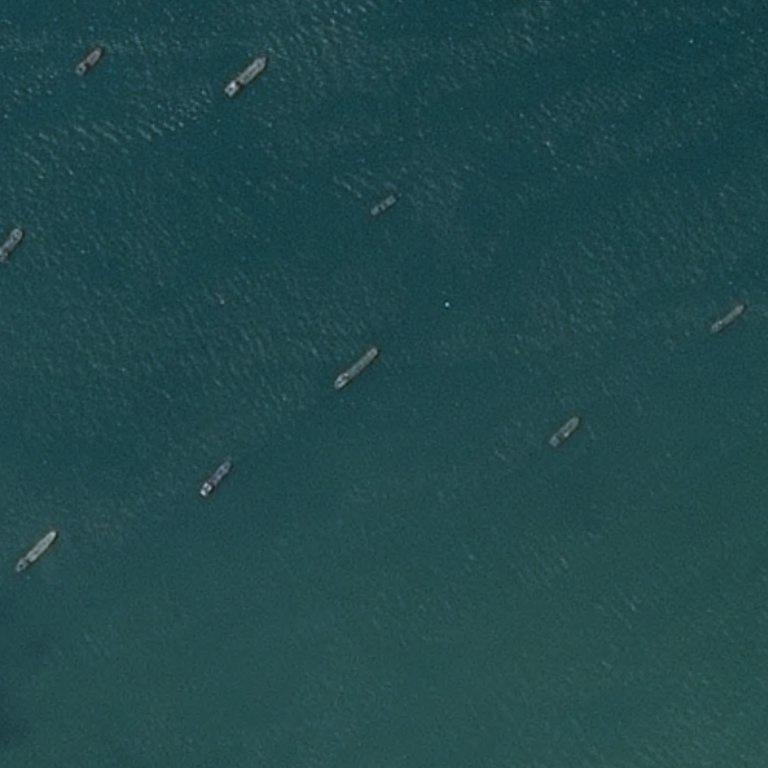ship: (332, 341, 382, 393), (12, 518, 59, 569), (223, 53, 269, 100), (196, 453, 235, 499), (704, 293, 746, 332), (366, 189, 403, 222), (546, 415, 581, 449), (0, 217, 19, 256), (0, 46, 21, 77), (739, 307, 742, 310), (205, 495, 207, 498), (576, 418, 578, 420), (398, 194, 400, 196), (374, 214, 376, 216), (375, 349, 377, 351), (337, 387, 339, 389), (229, 461, 231, 463), (20, 568, 22, 570), (99, 49, 101, 51), (264, 57, 266, 59), (550, 439, 551, 442), (692, 307, 693, 309), (54, 532, 55, 534), (19, 229, 20, 231), (75, 69, 77, 70), (82, 72, 84, 73), (0, 92, 2, 93), (0, 5, 1, 6), (696, 312, 697, 312), (555, 445, 557, 445), (370, 57, 370, 58), (333, 384, 333, 385), (45, 491, 45, 491), (15, 568, 15, 568), (1, 234, 1, 234), (69, 89, 70, 89)
